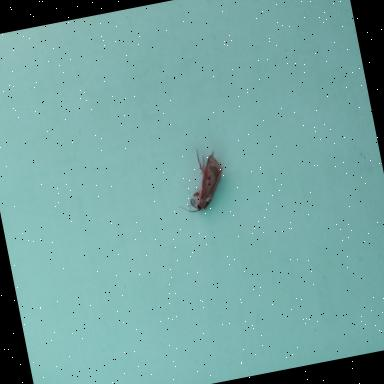abw: (166, 142, 237, 226)
